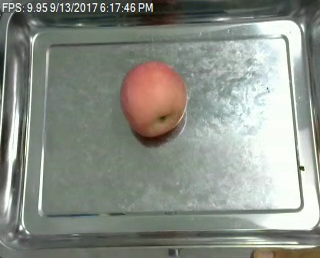Apple: (119, 62, 188, 138)
